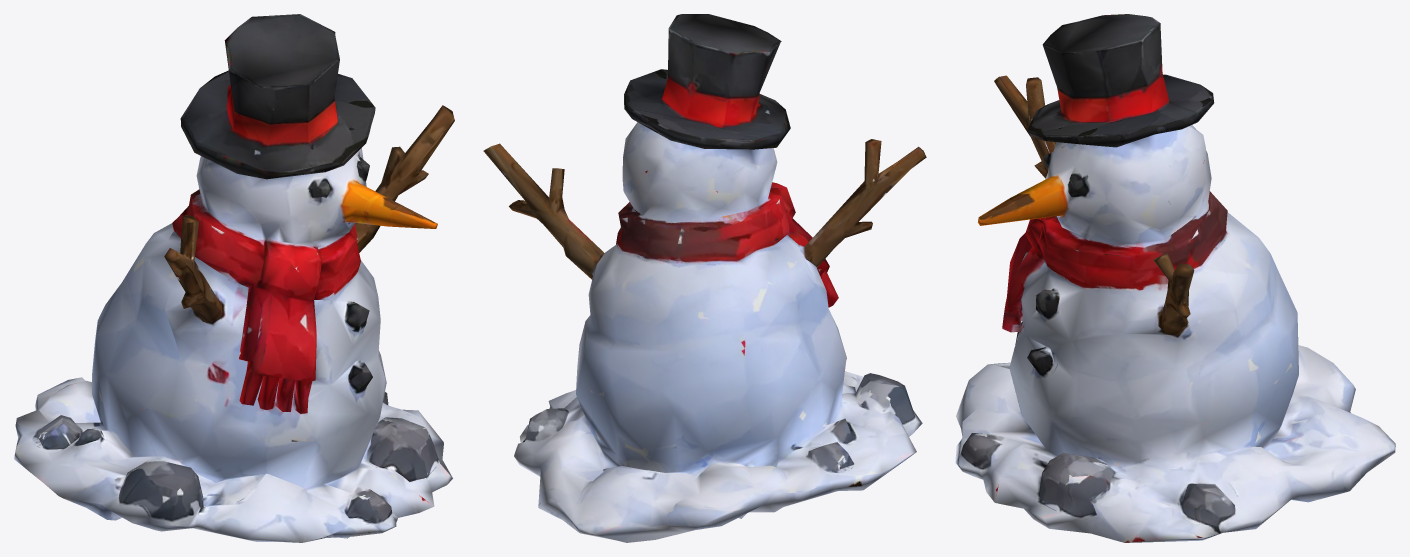
The model's file is dec_snowman.glb.
3 views of the same model, side by side, from view 1: azimuth 30°, elevation 25°; view 2: azimuth 150°, elevation 25°; view 3: azimuth 270°, elevation 25° (orthographic). The views are drawn at different scales.
Visible parts, largest first — view 1: BakeLow; view 2: BakeLow; view 3: BakeLow.
Part boxes in pixels (x1,y1,x2,y2): BakeLow: (14,14,454,542); BakeLow: (483,14,926,542); BakeLow: (955,14,1395,542).
Bounding box in the file's own units: 0.8004 × 0.8318 × 0.7235.
1 material, 1 textured.
